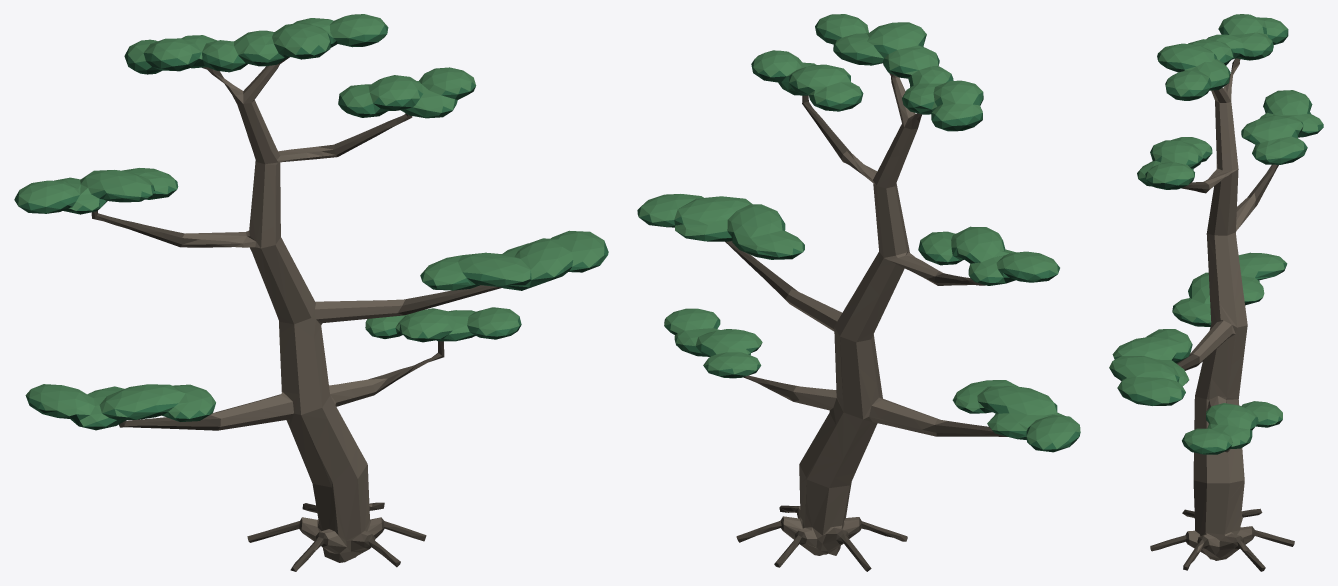
The model's file is ancient-pine-2189-lod0.glb.
3 renders of one model, left to right at view 1: azimuth 30°, elevation 25°; view 2: azimuth 150°, elevation 25°; view 3: azimuth 270°, elevation 25°, orthographic. The views are drawn at different scales.
Visible parts, largest first — view 1: n8.004, n12.004, n11.004, n9.004, n10.004; view 2: n12.004, n8.004, n11.004, n9.004, n10.004; view 3: n12.004, n8.004, n11.004, n9.004, n10.004.
Part boxes in pixels (x1,y1,x2,y2): n8.004: (180,64,404,562); n12.004: (18,14,604,426); n11.004: (14,25,608,426); n9.004: (91,57,501,571); n10.004: (19,35,599,430); n12.004: (638,14,1080,449); n8.004: (779,73,947,555); n11.004: (637,19,1080,449); n9.004: (725,73,1007,571); n10.004: (640,35,1079,452); n12.004: (1109,14,1322,449); n8.004: (1187,61,1263,560); n11.004: (1109,26,1323,453); n9.004: (1150,58,1294,571); n10.004: (1110,29,1322,454).
Bounding box in the file's own units: 5.25 × 5.43 × 2.18.
